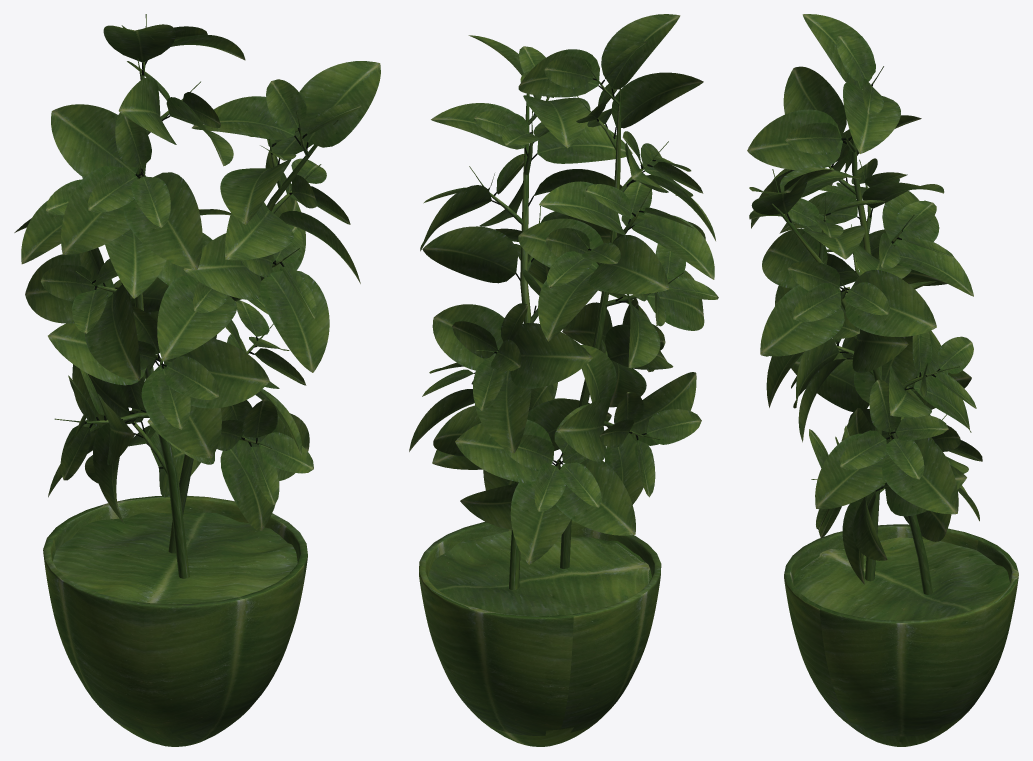
Rendered from Plant3.obj.
The picture shows the model from 3 angles, left to right: view 1: azimuth 30°, elevation 25°; view 2: azimuth 150°, elevation 25°; view 3: azimuth 270°, elevation 25°; orthographic projection. The views are drawn at different scales.
Parts seen in each view (by area): view 1: Plants_Set_leaf_4-material, Marble_White-material.001, Plants_Set_leaf_6-material, red_dirt_mud_01-material.006, Plants_Set_leaf_5-material, Plants_Set_bark-material; view 2: Plants_Set_leaf_4-material, Marble_White-material.001, Plants_Set_leaf_6-material, red_dirt_mud_01-material.006, Plants_Set_leaf_5-material, Plants_Set_bark-material; view 3: Plants_Set_leaf_4-material, Marble_White-material.001, Plants_Set_leaf_6-material, red_dirt_mud_01-material.006, Plants_Set_leaf_5-material, Plants_Set_bark-material.
Part boxes in pixels (left/top/right/bottom): Plants_Set_leaf_4-material: left=14, top=24, right=380, bottom=530; Marble_White-material.001: left=43, top=495, right=307, bottom=746; Plants_Set_leaf_6-material: left=41, top=25, right=361, bottom=505; red_dirt_mud_01-material.006: left=53, top=512, right=297, bottom=604; Plants_Set_leaf_5-material: left=60, top=26, right=350, bottom=480; Plants_Set_bark-material: left=85, top=62, right=317, bottom=578; Plants_Set_leaf_4-material: left=409, top=14, right=715, bottom=564; Marble_White-material.001: left=419, top=520, right=661, bottom=746; Plants_Set_leaf_6-material: left=422, top=41, right=718, bottom=511; red_dirt_mud_01-material.006: left=428, top=531, right=651, bottom=615; Plants_Set_leaf_5-material: left=429, top=56, right=703, bottom=497; Plants_Set_bark-material: left=483, top=78, right=652, bottom=589; Plants_Set_leaf_4-material: left=747, top=14, right=979, bottom=584; Marble_White-material.001: left=784, top=524, right=1018, bottom=746; Plants_Set_leaf_6-material: left=749, top=35, right=982, bottom=537; red_dirt_mud_01-material.006: left=793, top=537, right=1009, bottom=620; Plants_Set_leaf_5-material: left=761, top=78, right=954, bottom=467; Plants_Set_bark-material: left=778, top=82, right=938, bottom=594.
Size of the model in its own units: 0.4829 by 1.11 by 0.3982.
8 materials, 7 textured.
